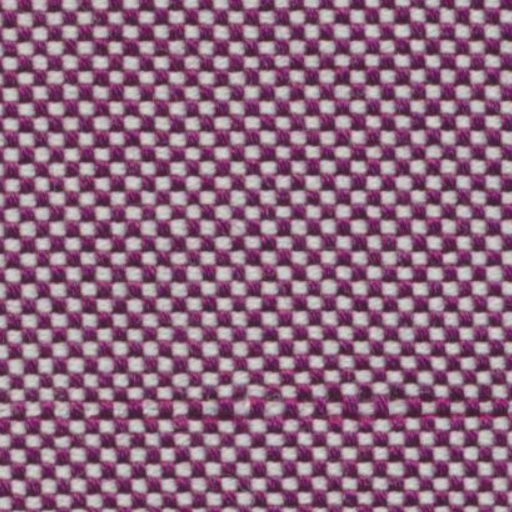TuoSha: (18, 374, 501, 446)
